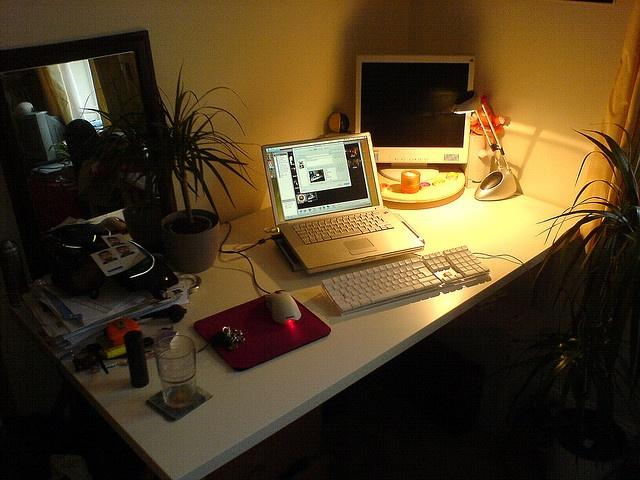AIO PC-Monitor-TV: (353, 52, 476, 165)
Meja: (2, 176, 590, 478)
